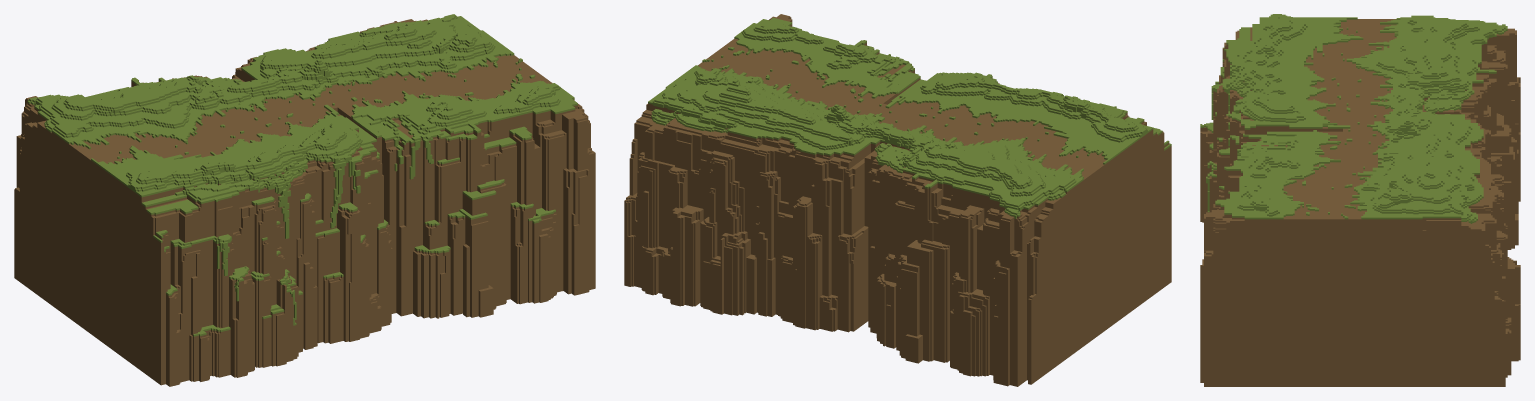
The model's file is forest1.4-39.obj.
3 views of the same model, side by side, from view 1: azimuth 30°, elevation 25°; view 2: azimuth 150°, elevation 25°; view 3: azimuth 270°, elevation 25° (orthographic). The views are drawn at different scales.
Bounding box in the file's own units: 25.6 × 11.1 × 17.3.
Materials: 1 (1 with a texture image).
